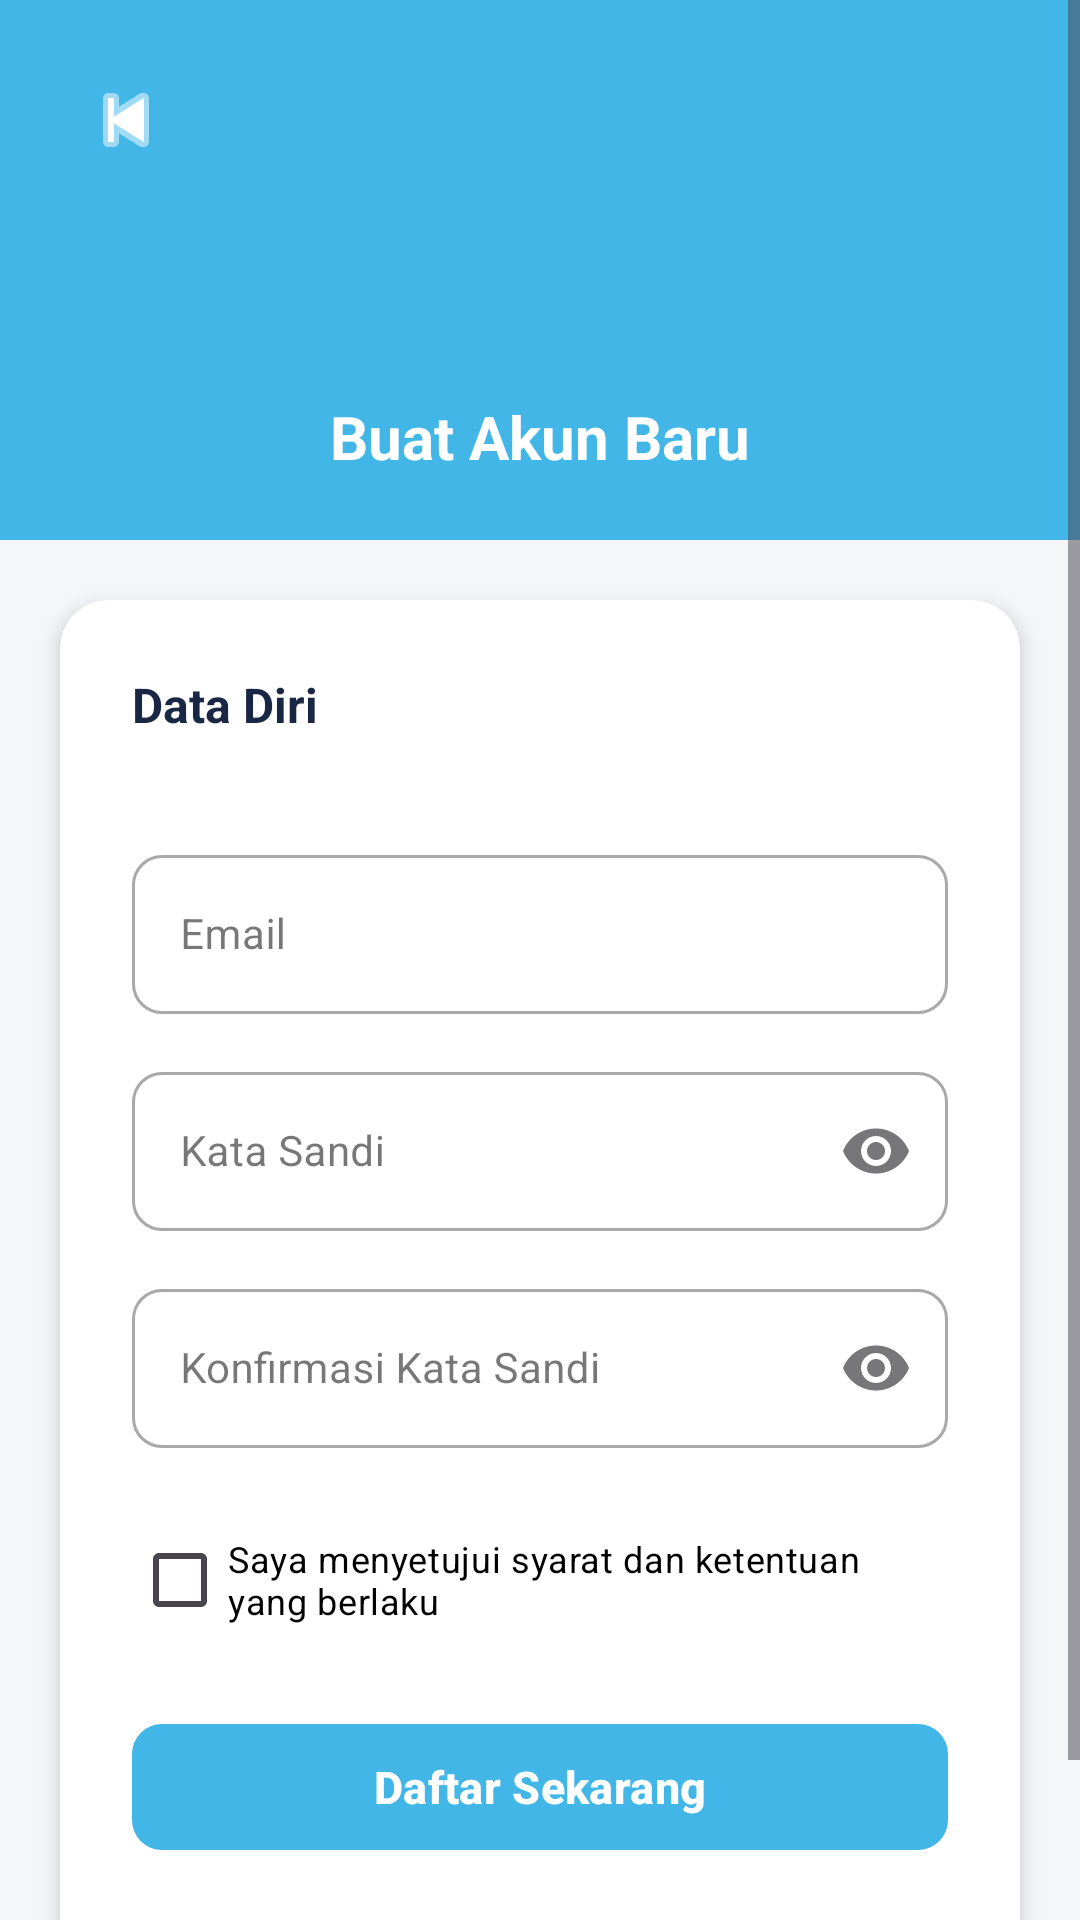

Point at icon controls on the screen. Image size 1080w x 1920h, points as (x,y).
previous: (126,120)
